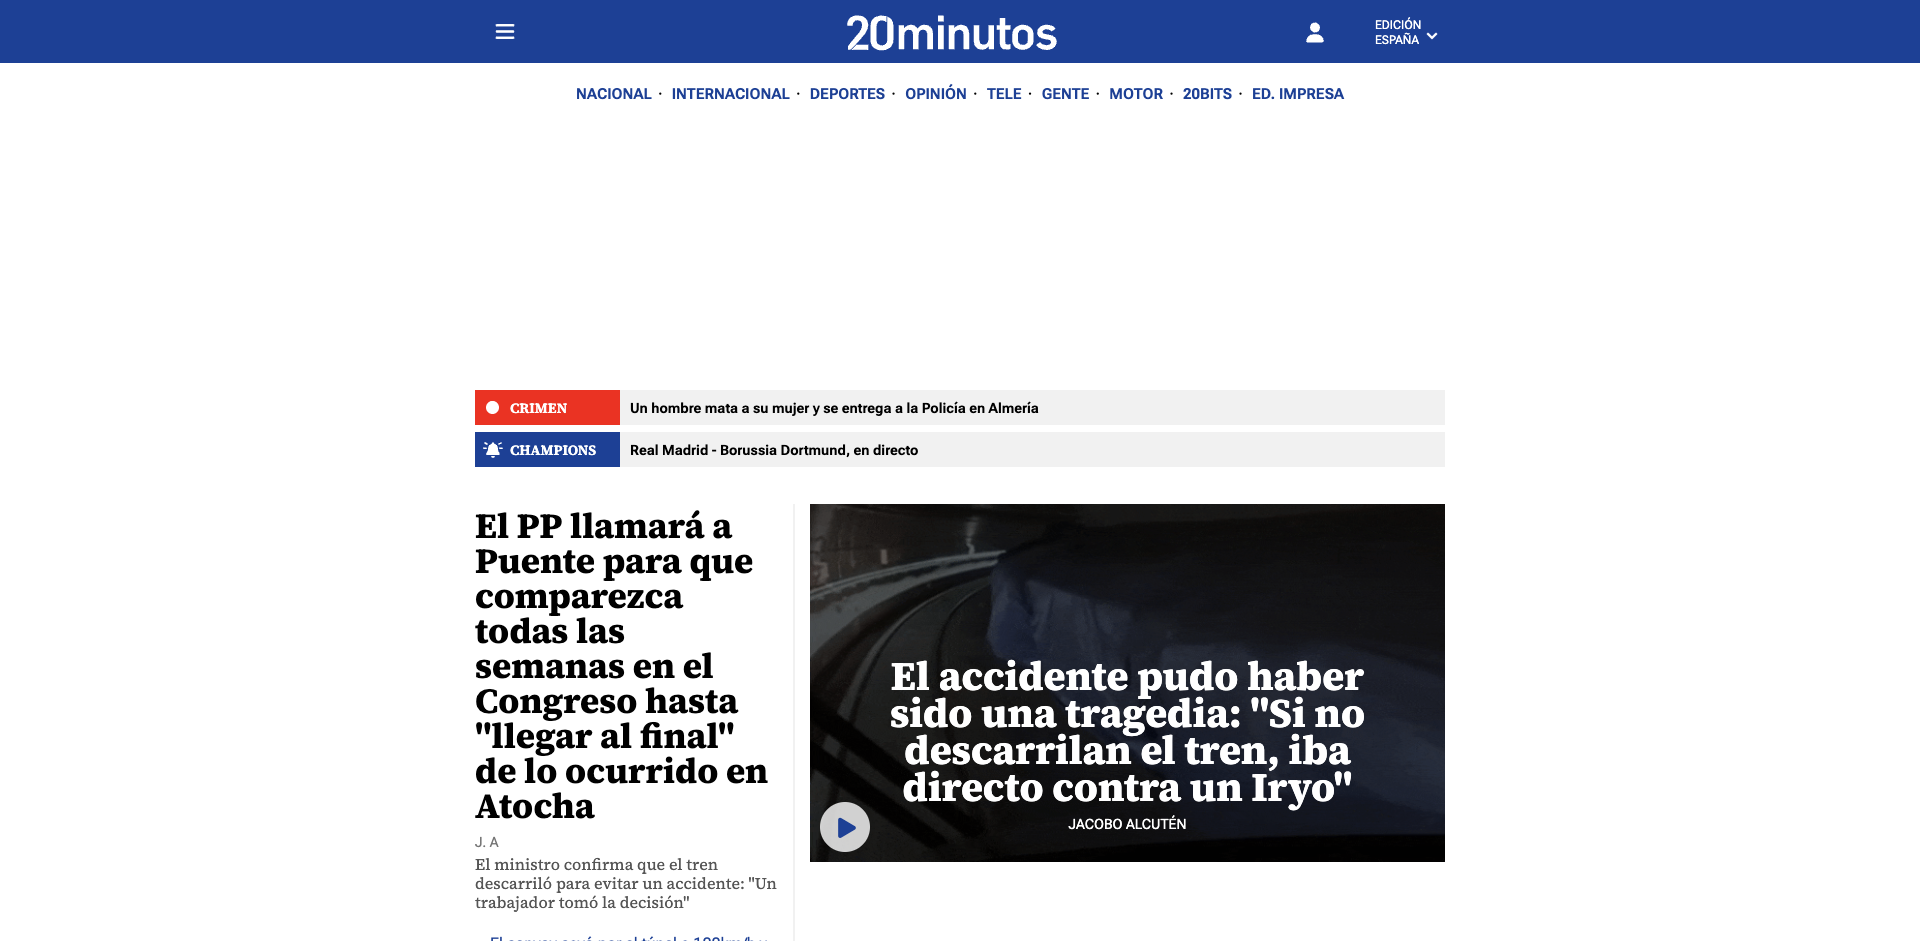link: (811, 504, 1445, 863), (475, 502, 768, 830), (890, 649, 1365, 814), (475, 390, 1440, 425), (475, 433, 1440, 467), (845, 10, 1060, 53), (672, 83, 790, 104), (475, 934, 778, 941), (1251, 83, 1344, 104), (576, 83, 651, 104), (809, 83, 885, 104), (905, 83, 967, 104), (1109, 83, 1163, 104), (1183, 83, 1232, 104), (1042, 83, 1090, 104), (987, 83, 1021, 104), (495, 17, 516, 48), (1375, 33, 1419, 47), (1422, 33, 1442, 47)
